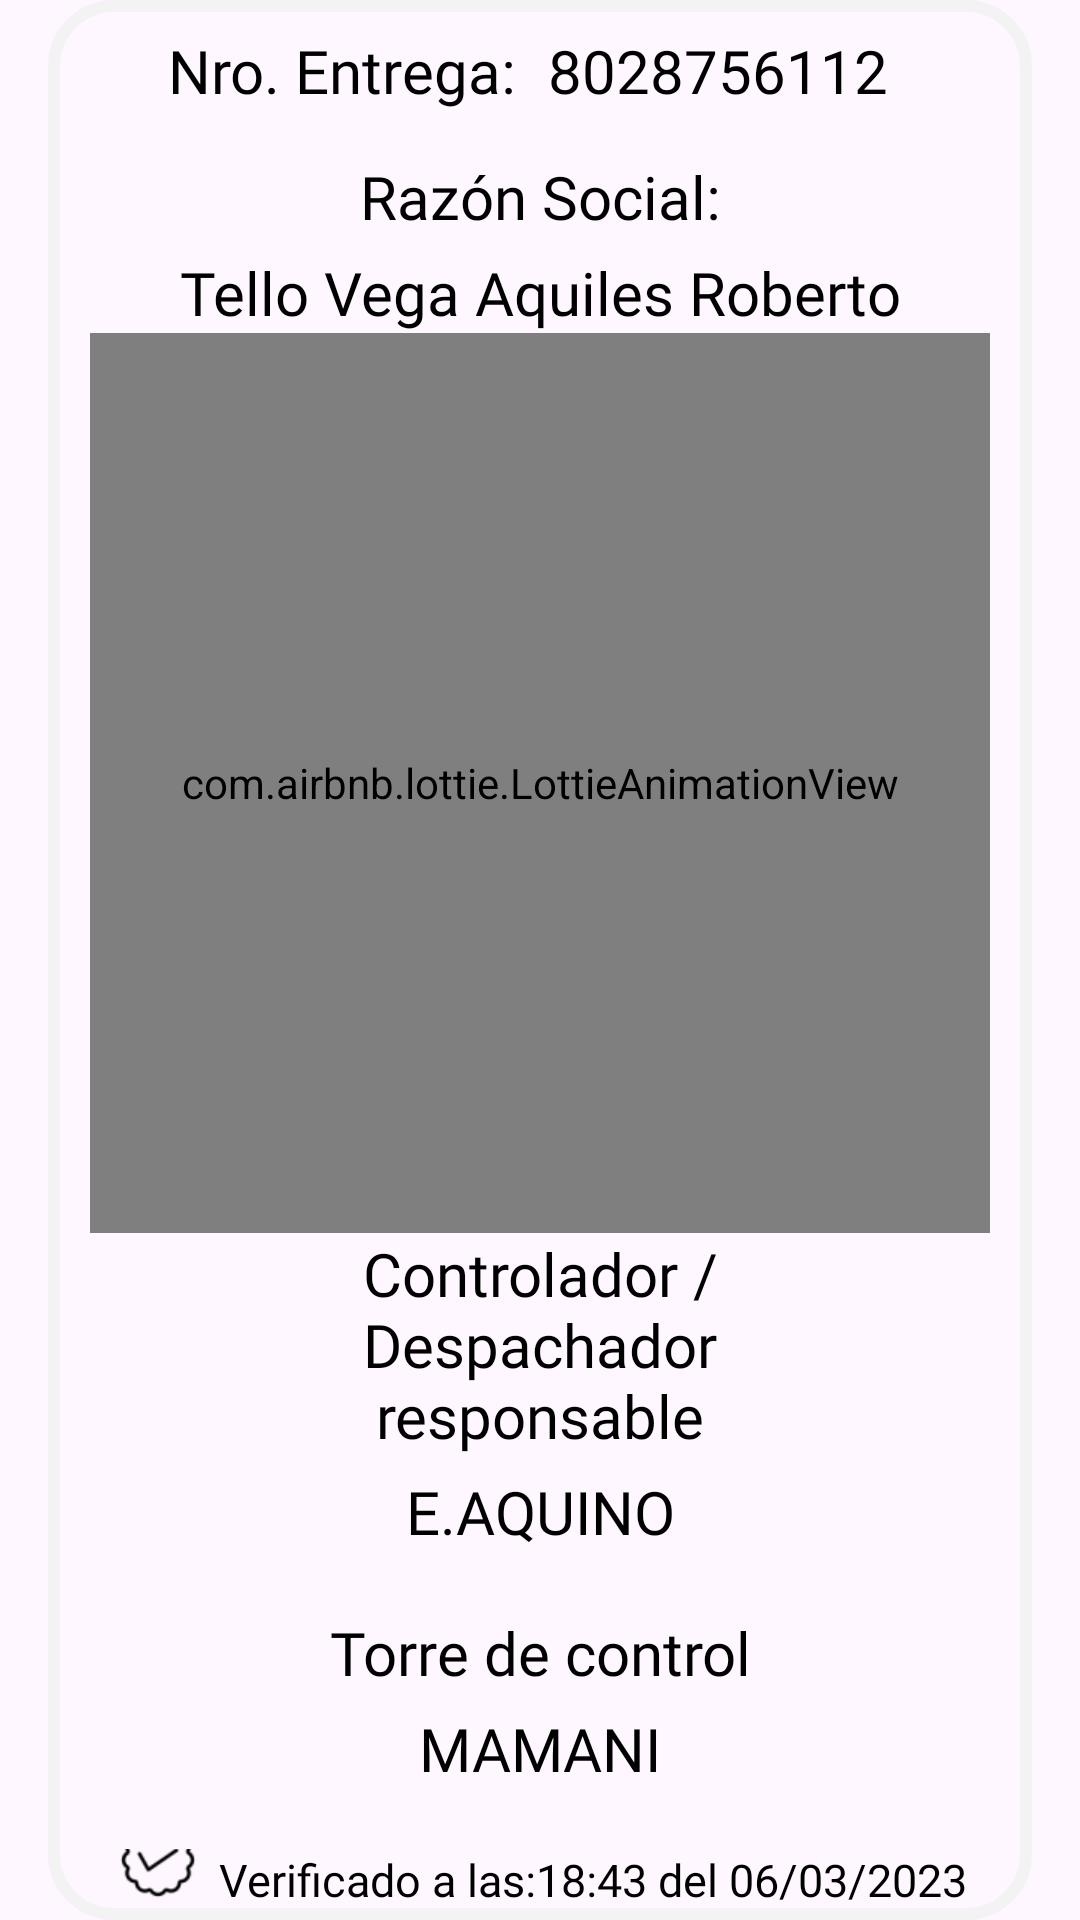

Where to tap for icons on this 1080px×1920px app screen, as [x,y]:
verify: [158,1873]
